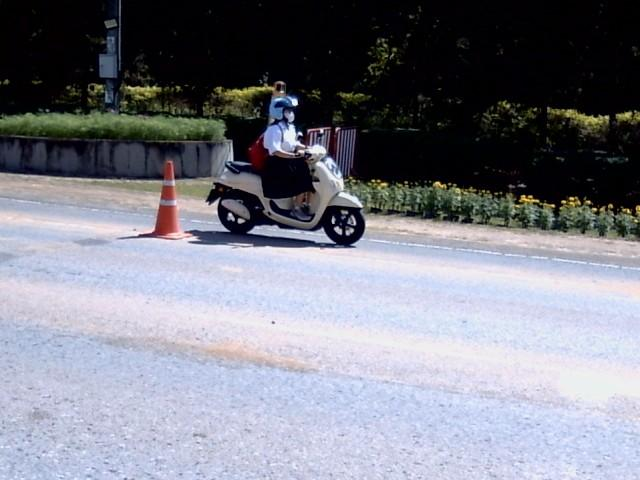helmet: (270, 97, 297, 122)
motor: (207, 145, 363, 244)
person: (263, 97, 314, 219)
